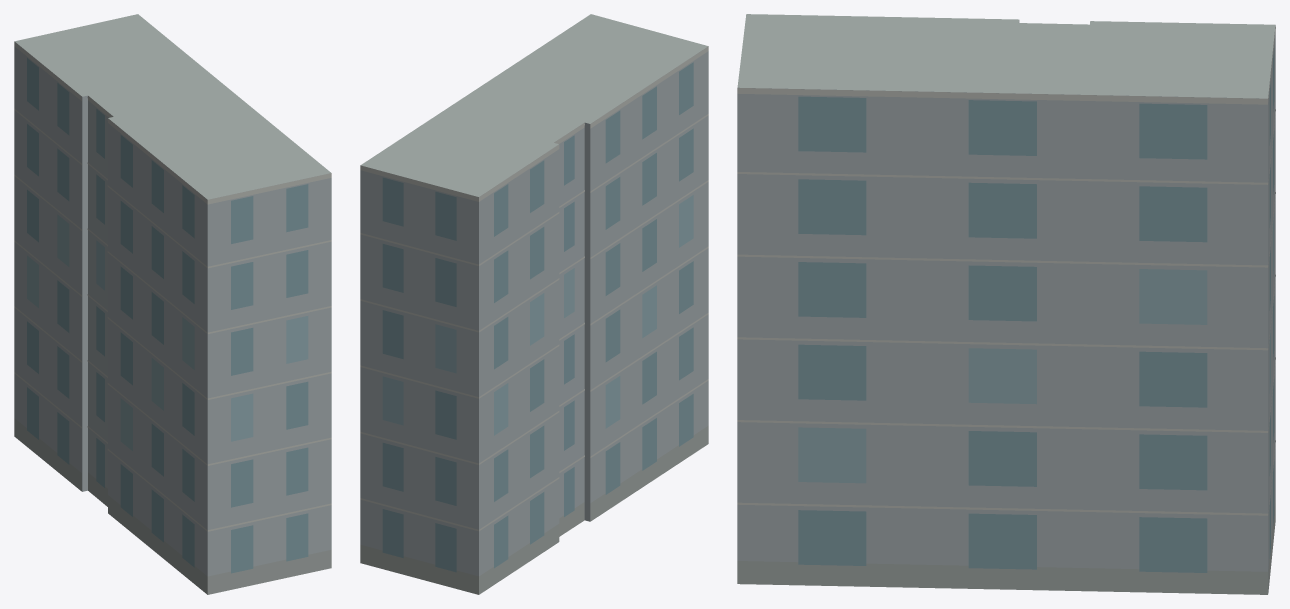
The model's file is survey-upis-32769417.glb.
3 views of the same model, side by side, from view 1: azimuth 30°, elevation 25°; view 2: azimuth 150°, elevation 25°; view 3: azimuth 270°, elevation 25° (orthographic). The views are drawn at different scales.
Parts seen in each view (by area): view 1: survey-upis-32769417.tmp; view 2: survey-upis-32769417.tmp; view 3: survey-upis-32769417.tmp.
Boxes of the visible parts, x1,y1,x2,y2 form: survey-upis-32769417.tmp: (14,14,331,594); survey-upis-32769417.tmp: (360,14,708,594); survey-upis-32769417.tmp: (737,14,1275,594).
Size of the model in its own units: 7.34 by 20 by 19.68.
